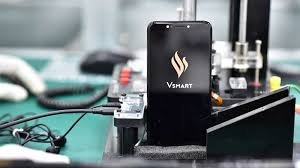vsmart: (146, 20, 211, 146)
